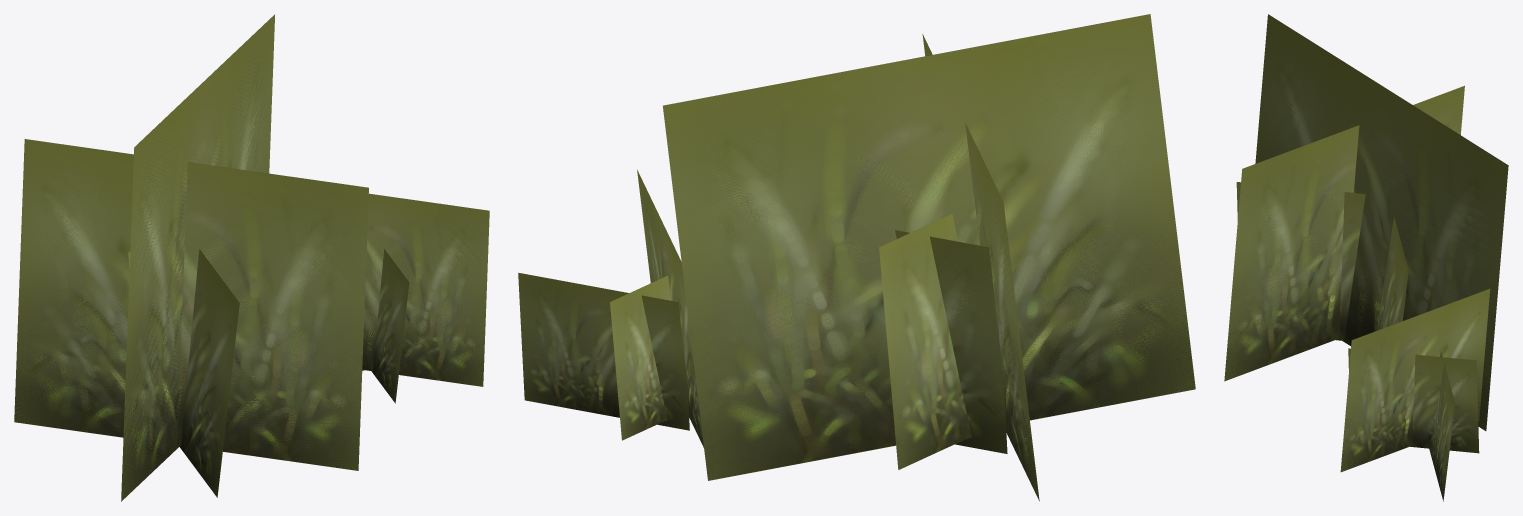
Rendered from grass.FBX.
3 renders of one model, left to right at view 1: azimuth 30°, elevation 25°; view 2: azimuth 150°, elevation 25°; view 3: azimuth 270°, elevation 25°, orthographic. The views are drawn at different scales.
Parts seen in each view (by area): view 1: grass; view 2: grass; view 3: grass.
Part boxes in pixels (<box>): grass: <box>14,14,489,501</box>; grass: <box>518,14,1195,501</box>; grass: <box>1224,14,1508,501</box>.
Size of the model in its own units: 29.45 by 22.55 by 18.55.
1 material, 1 textured.
